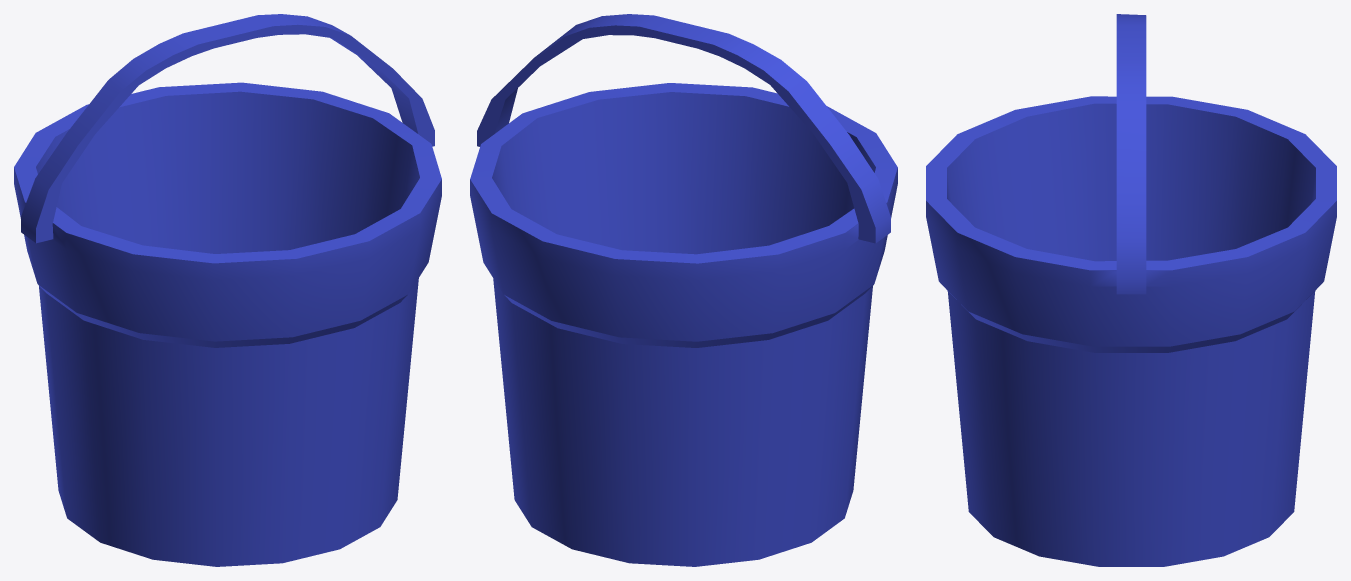
File: Plastic Bucket Proper.fbx
3 views of the same model, side by side, from view 1: azimuth 30°, elevation 25°; view 2: azimuth 150°, elevation 25°; view 3: azimuth 270°, elevation 25° (orthographic). The views are drawn at different scales.
Parts seen in each view (by area): view 1: Plastic; view 2: Plastic; view 3: Plastic.
Boxes of the visible parts, x1,y1,x2,y2 form: Plastic: (14,14,441,566); Plastic: (470,14,897,566); Plastic: (926,14,1336,566).
Bounding box in the file's own units: 0.5357 × 0.5974 × 0.4892.
